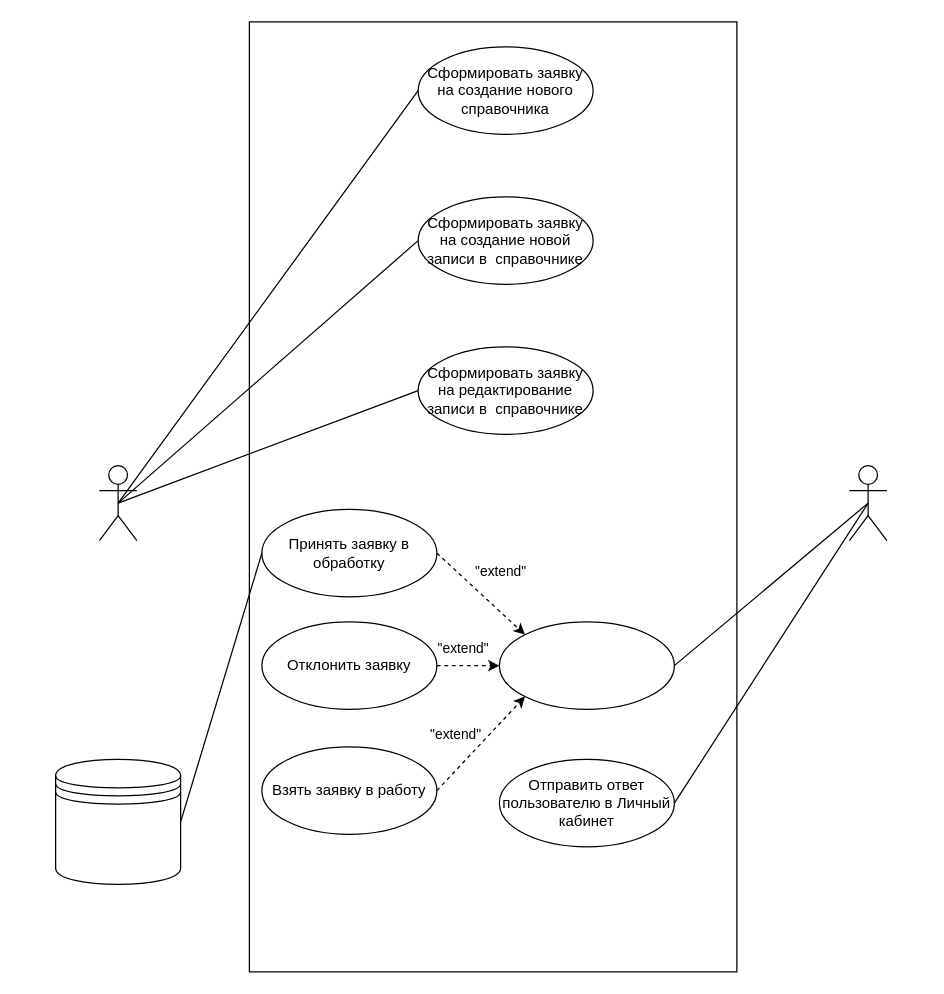
Some shapes in this 944 by 994 pixel diagram are drawn without their labels. The shapes that lost their labels are listed below. From the top down, each one's centre as x and y in pixels, then its label:
At (x=117, y=502): "Стандартный пользователь".
At (x=867, y=502): "Администратор".
At (x=586, y=665): "Управлять заявками".
At (x=117, y=821): "БД Системы X со справочниками".
